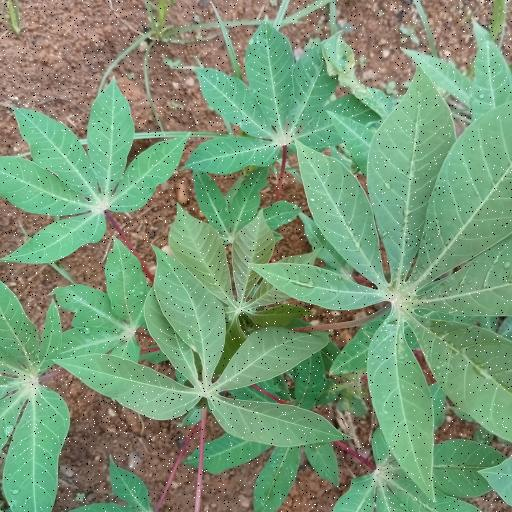Cassava_Mosaic: (287, 85, 512, 482), (11, 82, 187, 266), (0, 278, 65, 512)
